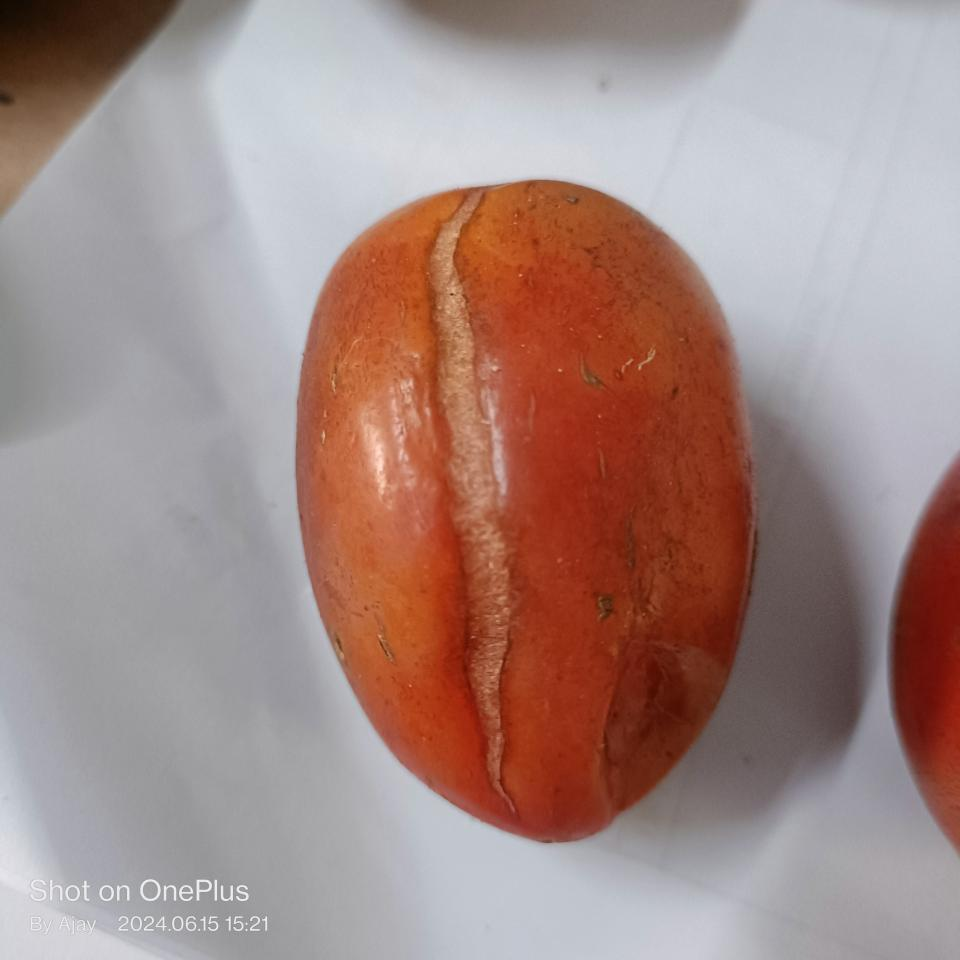Cracking: (423, 170, 531, 809)
